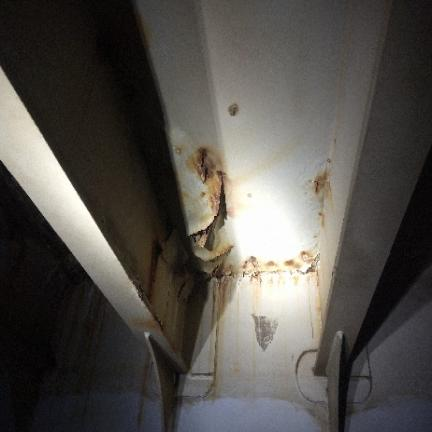besi_tidak_karat: (0, 69, 183, 367), (316, 0, 431, 373)
karat: (188, 147, 222, 235), (191, 171, 225, 252), (252, 313, 277, 350), (147, 240, 162, 296), (314, 169, 325, 194), (243, 256, 258, 272), (213, 260, 223, 276), (228, 104, 238, 115), (284, 260, 294, 263)
